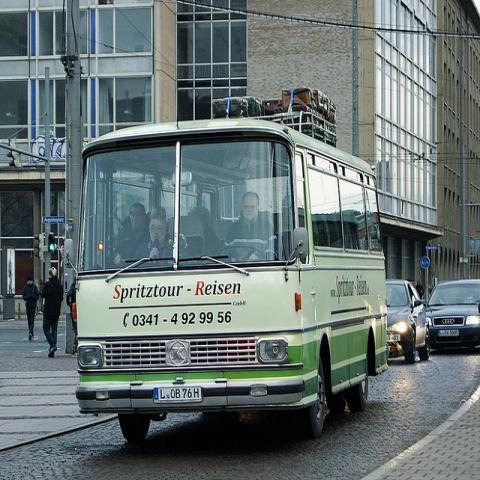bus: (61, 111, 390, 446)
car: (427, 277, 479, 349), (386, 279, 429, 361)
